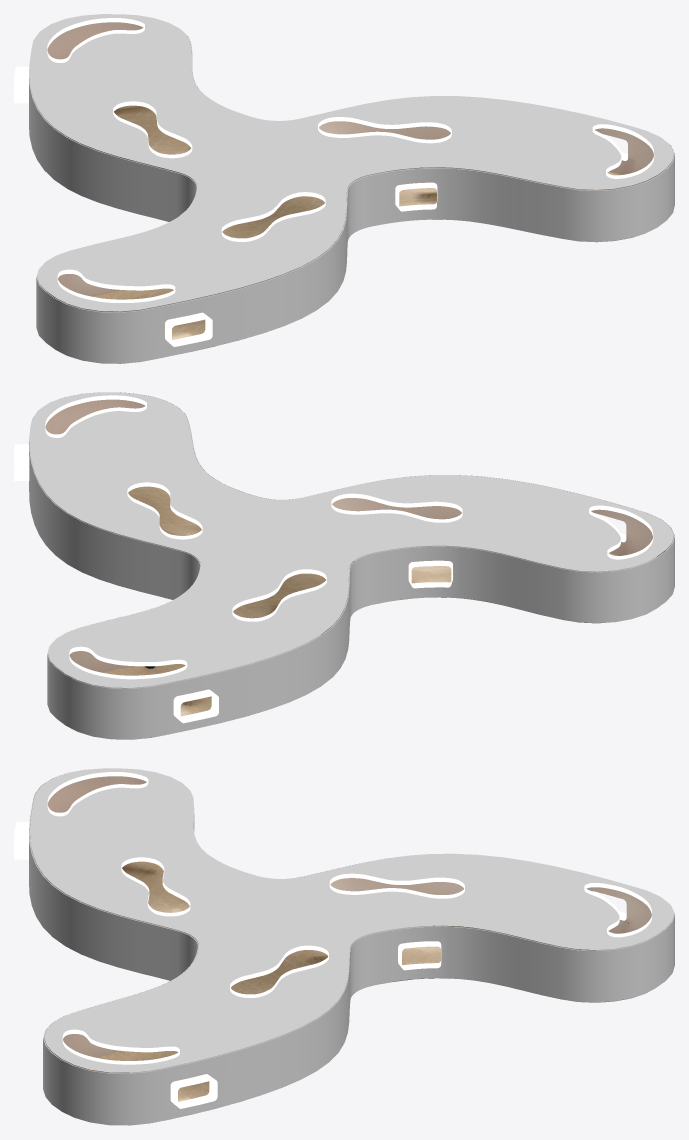
File: walls.glb
The picture shows the model from 3 angles, top to bottom: view 1: azimuth 30°, elevation 25°; view 2: azimuth 150°, elevation 25°; view 3: azimuth 270°, elevation 25°; orthographic projection.
Parts seen in each view (by area): view 1: Outar_wall, Wall, Roof, Floor; view 2: Outar_wall, Wall, Roof, Floor; view 3: Outar_wall, Wall, Roof, Floor.
Part boxes in pixels (left/top/right/bottom): Outar_wall: left=29, top=14, right=674, bottom=363; Wall: left=14, top=22, right=674, bottom=363; Roof: left=47, top=18, right=654, bottom=302; Floor: left=92, top=105, right=620, bottom=339; Outar_wall: left=29, top=392, right=674, bottom=739; Wall: left=14, top=392, right=674, bottom=739; Roof: left=45, top=395, right=653, bottom=688; Floor: left=103, top=486, right=618, bottom=716; Outar_wall: left=29, top=768, right=674, bottom=1125; Wall: left=14, top=776, right=654, bottom=1125; Roof: left=47, top=772, right=651, bottom=1064; Floor: left=97, top=861, right=614, bottom=1101.
Bounding box in the file's own units: 1.79 × 0.1544 × 1.64.
Materials: 5 (3 with a texture image).
